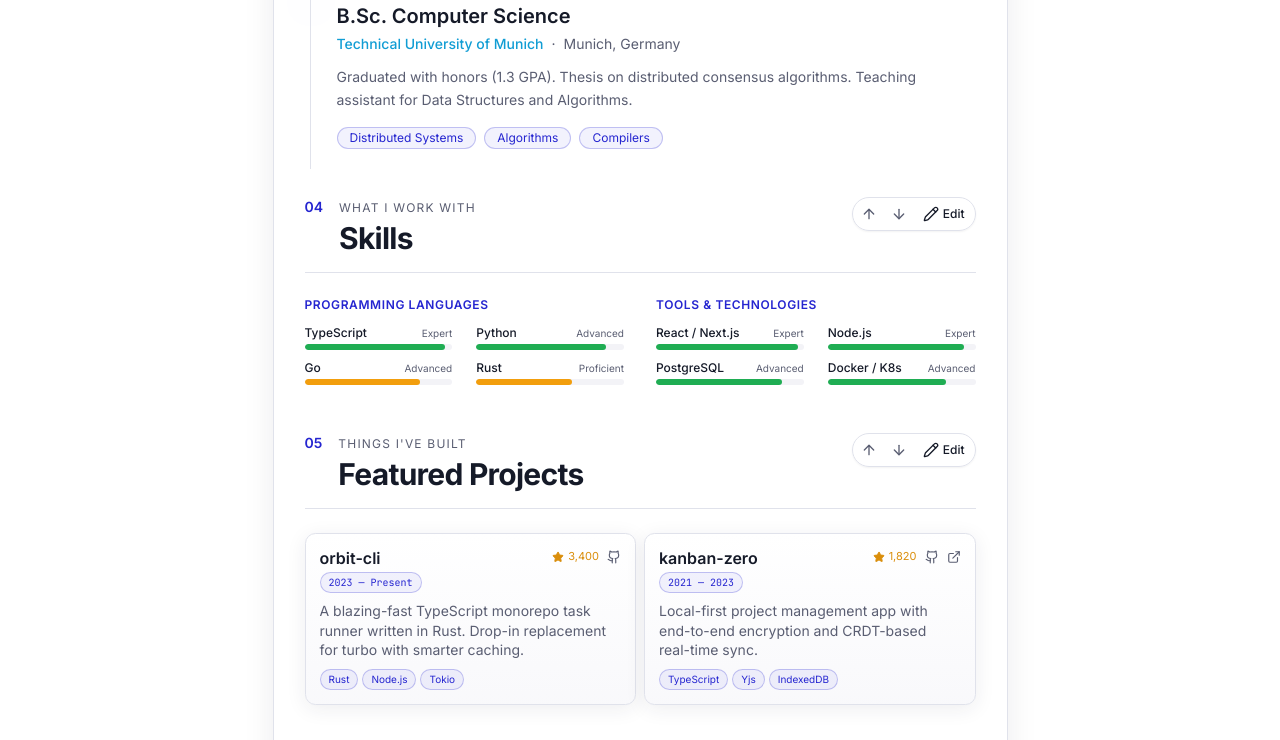
Test: color theme + section designs › switches projects to the timeline design
(page scrolled)
Click the button "Edit" in the row of "Featured Projects".
click(944, 450)  # box top-left (915, 436), bottom-right (972, 464)
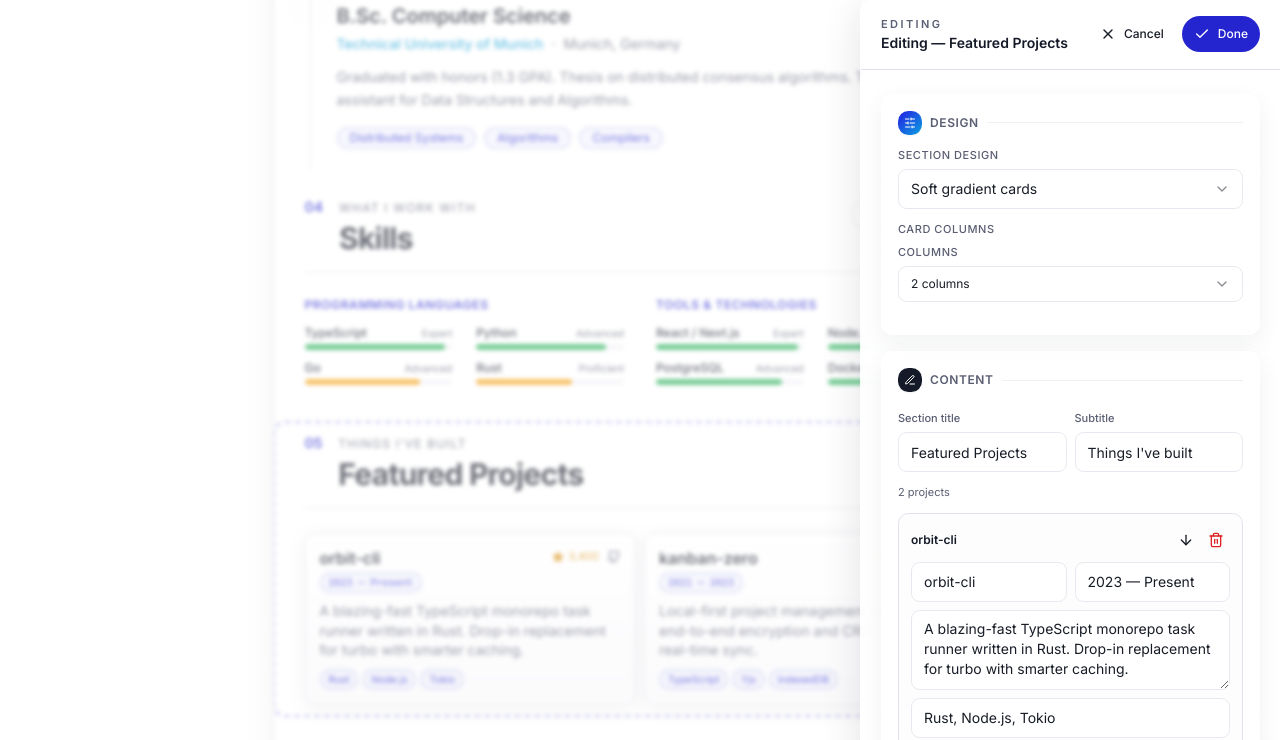
Check: the heading "Editing — Featured Projects" is shown, box top-left (881, 32), bottom-right (1068, 52)
Click the dropdown named "Section design".
click(974, 188)  # box top-left (898, 169), bottom-right (1243, 209)
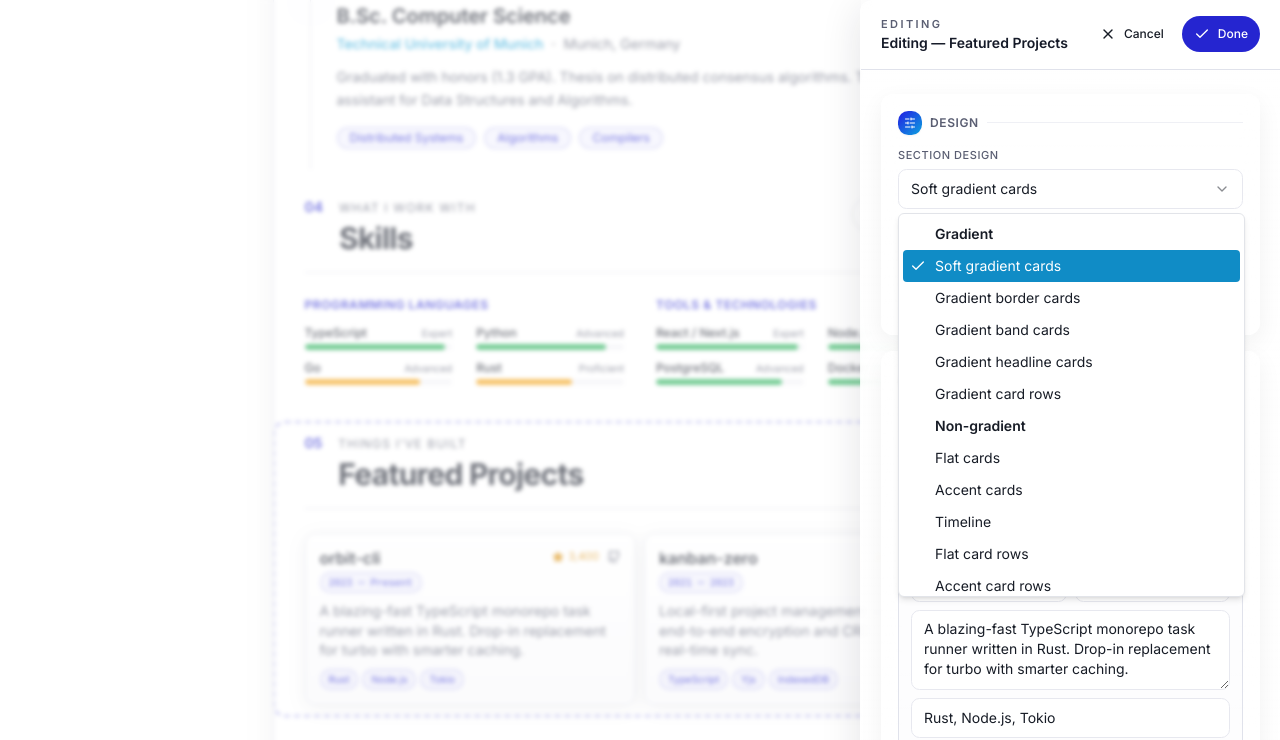
Click the option "Timeline".
click(963, 522)  # box top-left (935, 513), bottom-right (991, 530)
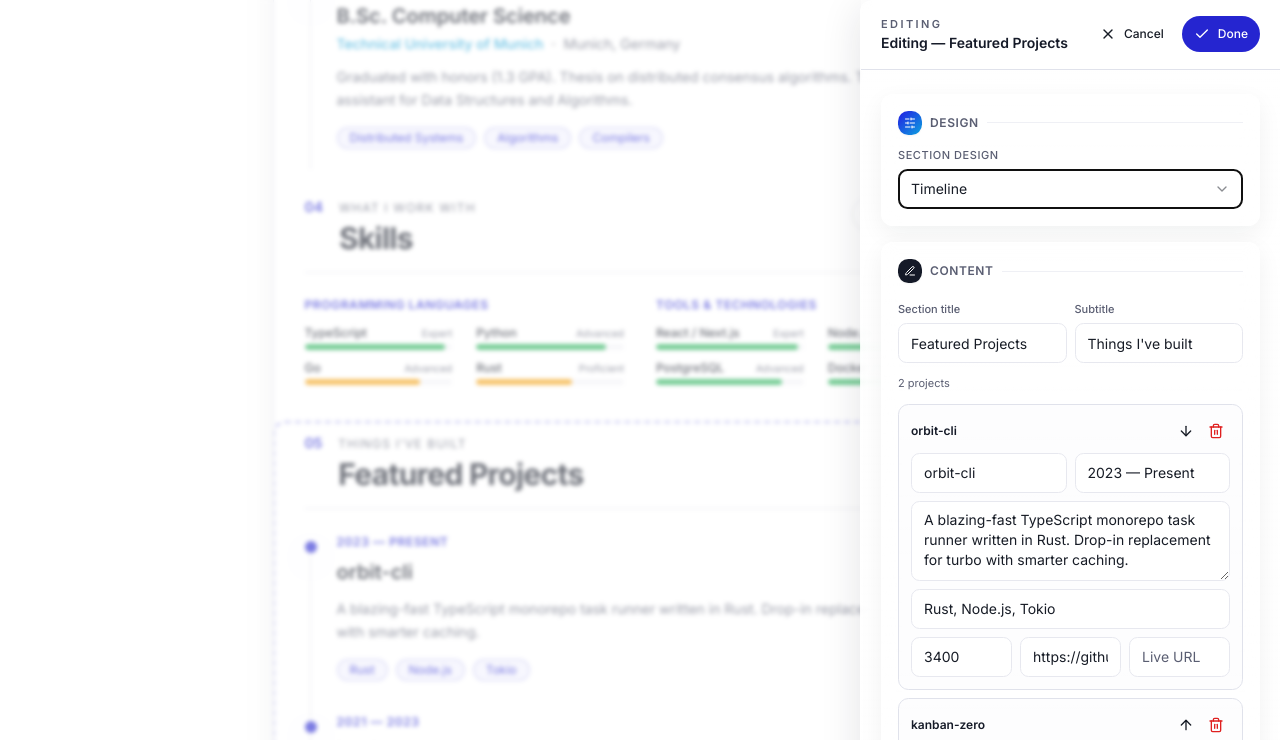
Check: the element with class "cv-timeline-item" that starts with "2023 — Present" is shown, box top-left (304, 533), bottom-right (976, 713)
Check: the element with class "cv-project-card" is gone
